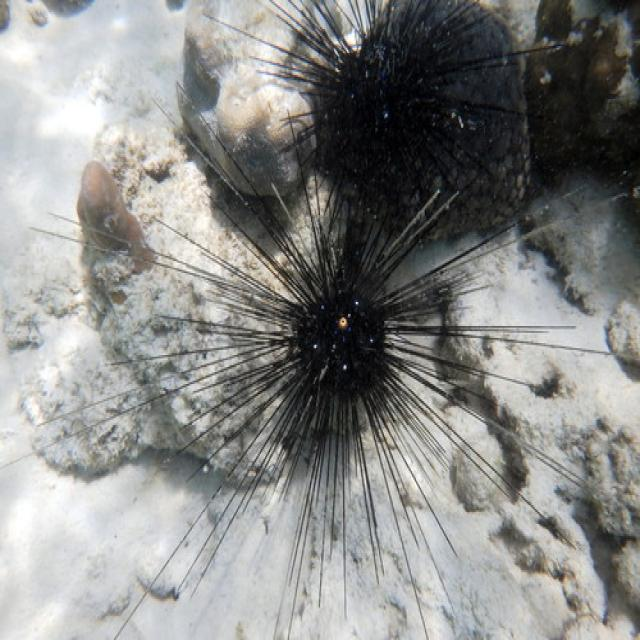Urchin: (26, 111, 612, 613), (191, 2, 563, 234)
